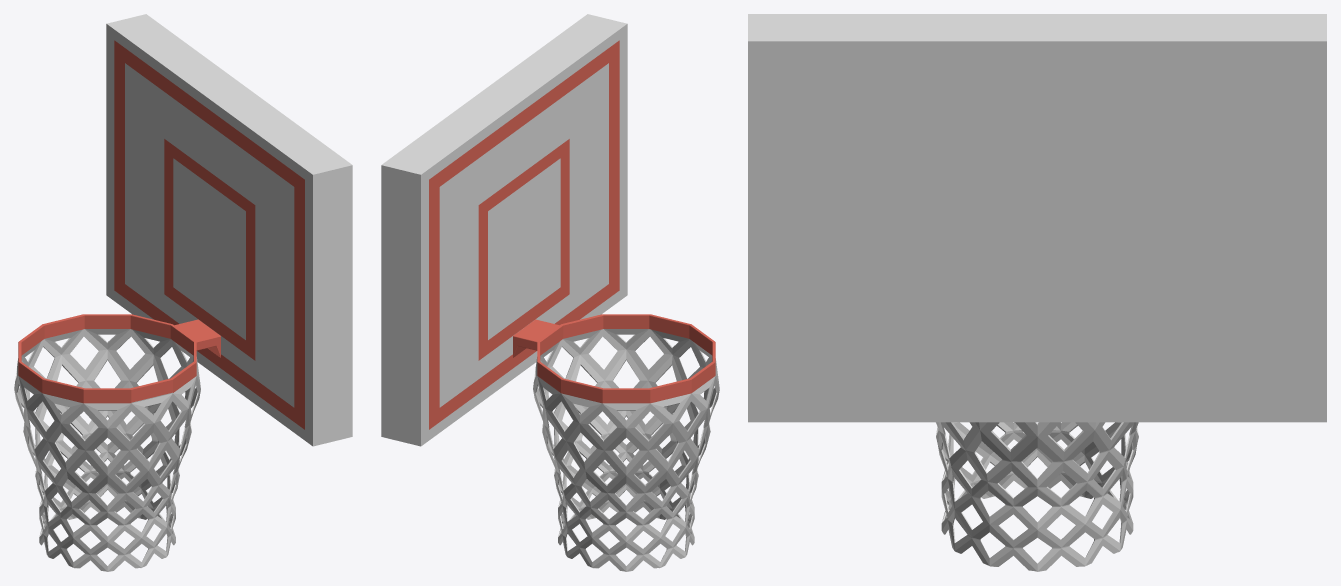
File: Canasta.fbx
The picture shows the model from 3 angles, left to right: view 1: azimuth 30°, elevation 25°; view 2: azimuth 150°, elevation 25°; view 3: azimuth 270°, elevation 25°; orthographic projection. The views are drawn at different scales.
Parts seen in each view (by area): view 1: Madera, Canasta.001; view 2: Madera, Canasta.001; view 3: Madera, Canasta.001.
Boxes of the visible parts, x1,y1,x2,y2 form: Madera: (106,14,352,446); Canasta.001: (14,314,220,571); Madera: (381,14,627,446); Canasta.001: (513,314,719,571); Madera: (748,14,1326,422); Canasta.001: (936,422,1138,571).
Size of the model in its own units: 212 by 132 by 237.
